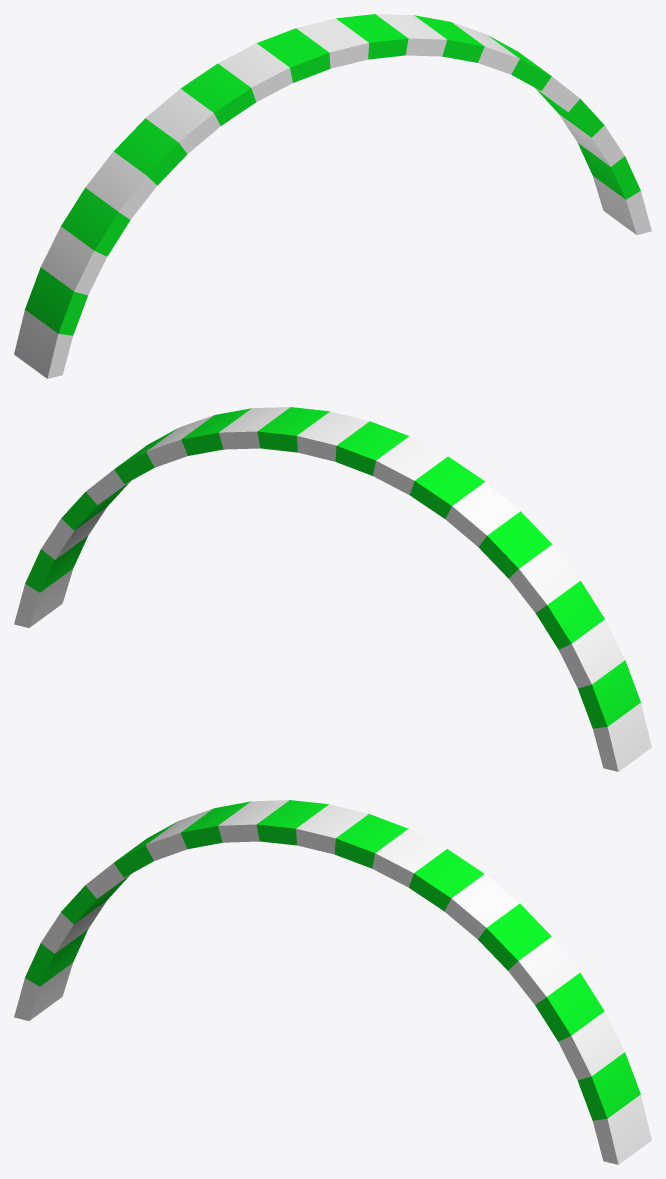
The model's file is Checkpoint.fbx.
3 views of the same model, one above another, from view 1: azimuth 30°, elevation 25°; view 2: azimuth 150°, elevation 25°; view 3: azimuth 330°, elevation 25° (orthographic).
Parts seen in each view (by area): view 1: Checkpoint; view 2: Checkpoint; view 3: Checkpoint.
Boxes of the visible parts, box(x1,y1,x2,y2) form: Checkpoint: box(14, 14, 651, 378); Checkpoint: box(14, 407, 651, 771); Checkpoint: box(14, 800, 651, 1164).
Bounding box in the file's own units: 23.22 × 9.46 × 2.22.
1 material, 1 textured.
